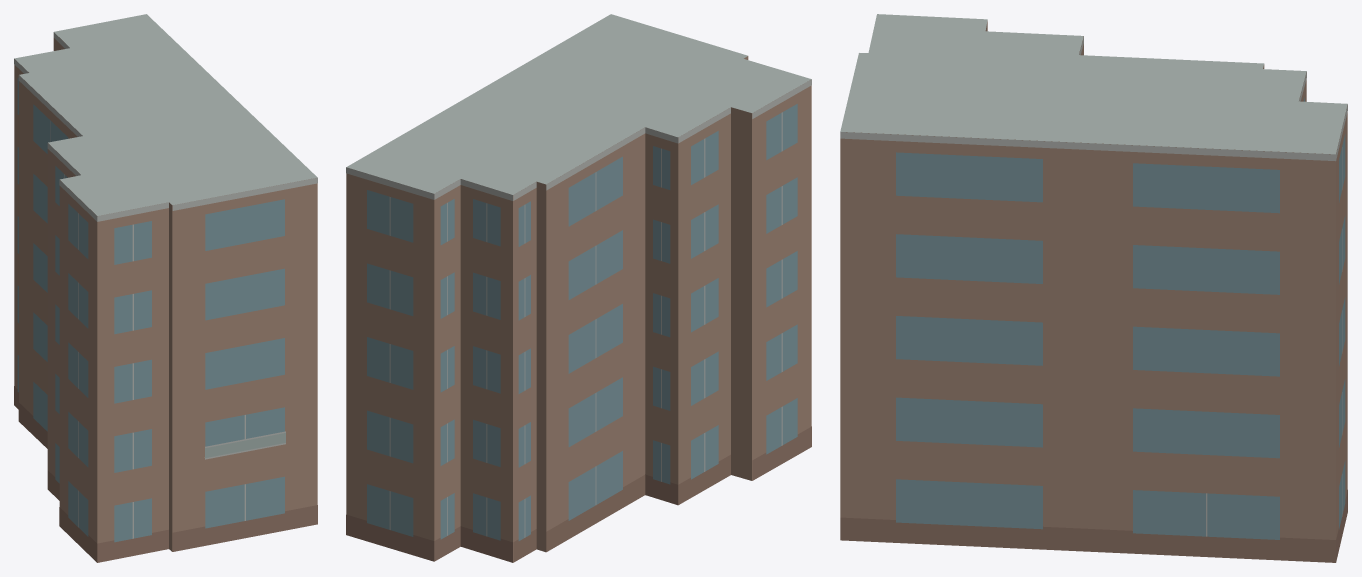
The model's file is survey-upis-32721382.glb.
The picture shows the model from 3 angles, left to right: view 1: azimuth 30°, elevation 25°; view 2: azimuth 150°, elevation 25°; view 3: azimuth 270°, elevation 25°; orthographic projection. The views are drawn at different scales.
Visible parts, largest first — view 1: survey-upis-32721382.tmp; view 2: survey-upis-32721382.tmp; view 3: survey-upis-32721382.tmp.
Part boxes in pixels (<box>): survey-upis-32721382.tmp: <box>14,14,317,562</box>; survey-upis-32721382.tmp: <box>346,14,811,562</box>; survey-upis-32721382.tmp: <box>840,14,1347,562</box>.
Size of the model in its own units: 10.77 by 14.6 by 16.45.
